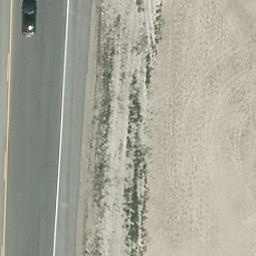car: (21, 0, 37, 37)
